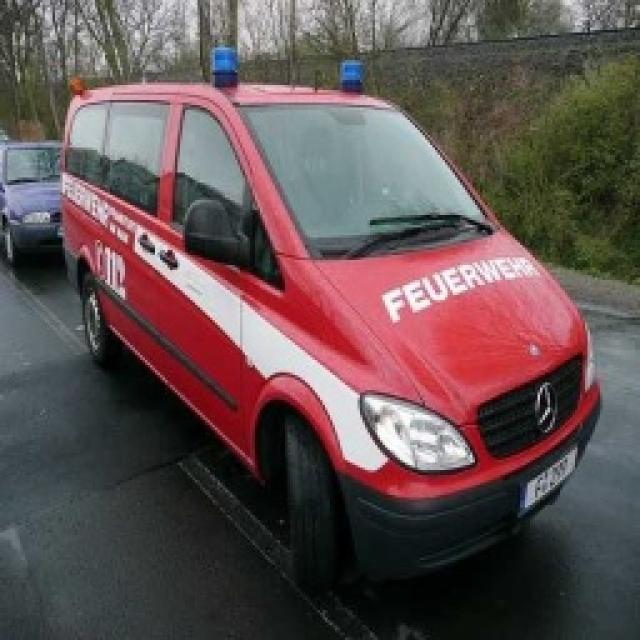emergency-vehicle: (60, 45, 604, 595)
